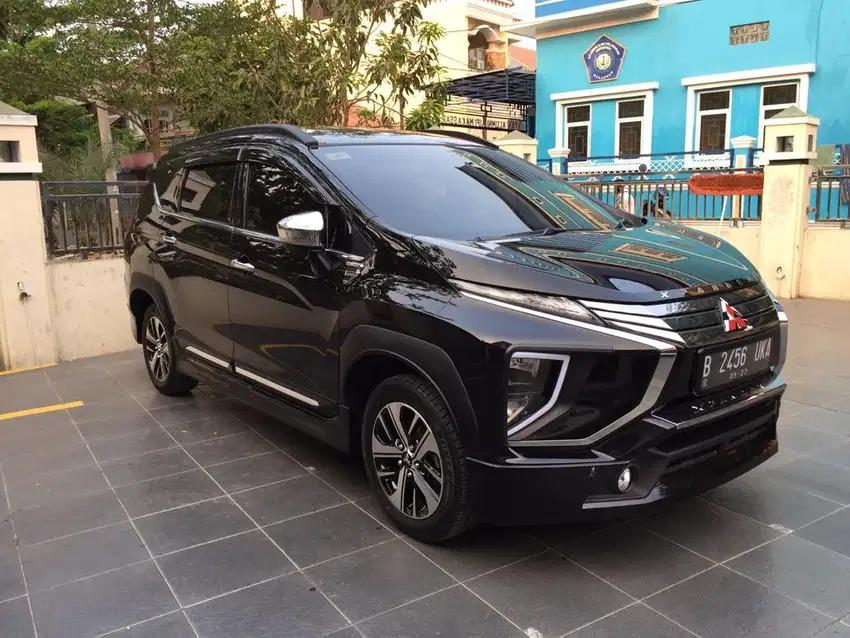plate: (700, 337, 774, 391)
